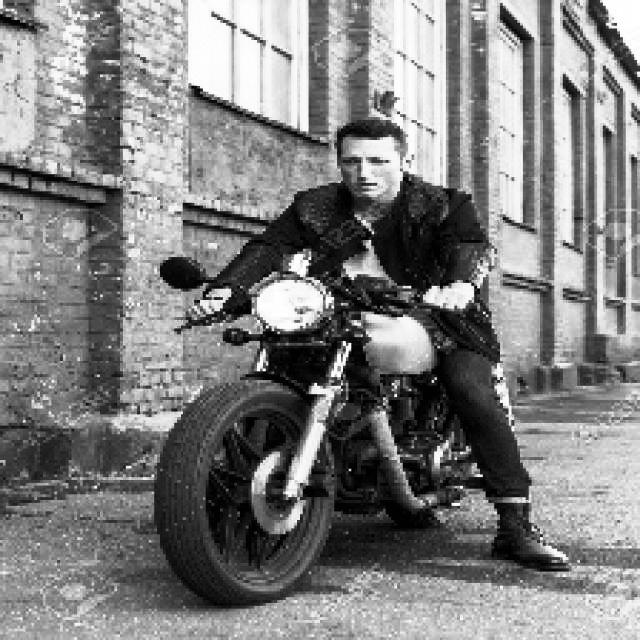Bike: (162, 257, 475, 593)
